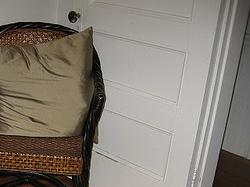chair: (0, 16, 114, 187)
